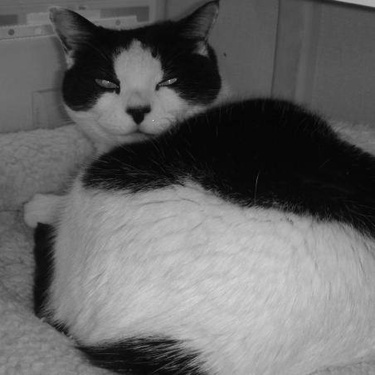cat: (10, 12, 364, 355)
